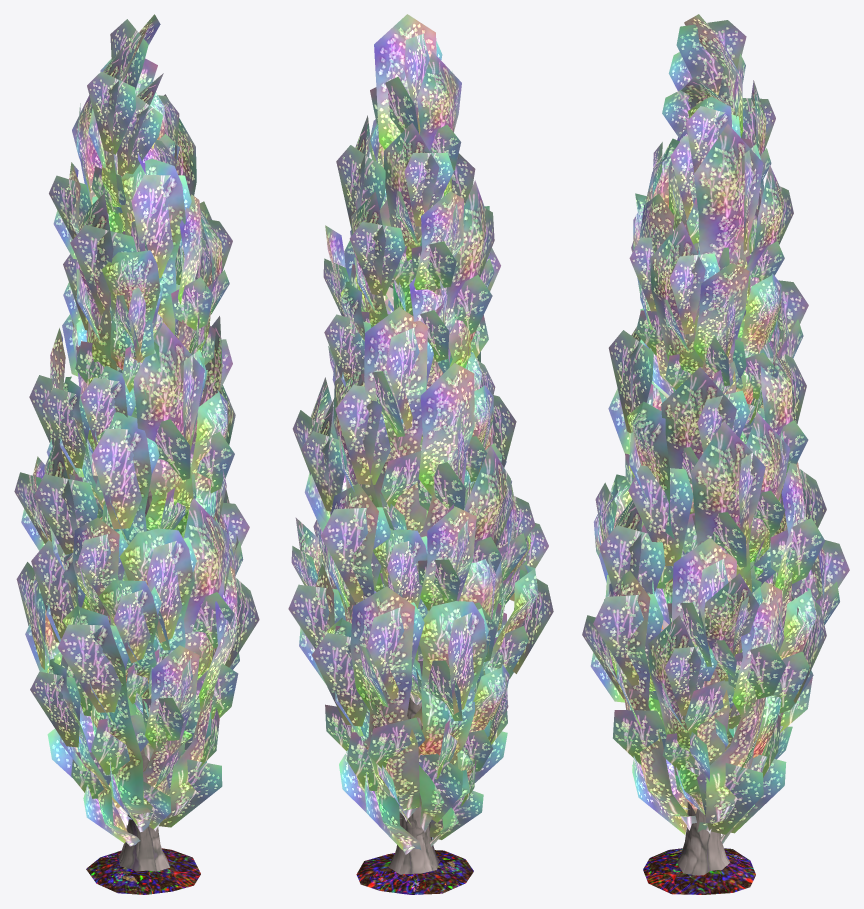
The model's file is poplar_SM.fbx.
The picture shows the model from 3 angles, left to right: view 1: azimuth 30°, elevation 25°; view 2: azimuth 150°, elevation 25°; view 3: azimuth 270°, elevation 25°; orthographic projection.
Parts seen in each view (by area): view 1: poplar_SM_LOD0; view 2: poplar_SM_LOD0; view 3: poplar_SM_LOD0.
Part boxes in pixels (x1,y1,x2,y2): poplar_SM_LOD0: (14, 14, 259, 894); poplar_SM_LOD0: (288, 14, 553, 894); poplar_SM_LOD0: (582, 14, 849, 894).
Size of the model in its own units: 689 by 723 by 2602.
3 materials, 3 textured.
